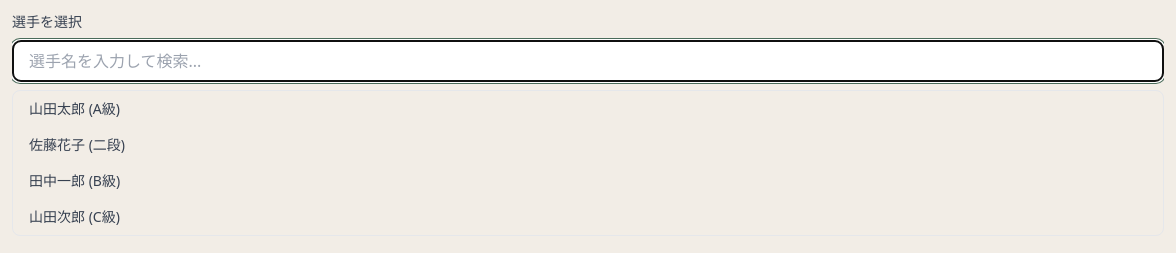
Test: PlayerSearchCombobox › 該当なしの場合は「該当する選手がいません」が表示される
Type "鈴木" into the dropdown. click: coordinates (588, 61)
box: [12, 40, 1164, 82]
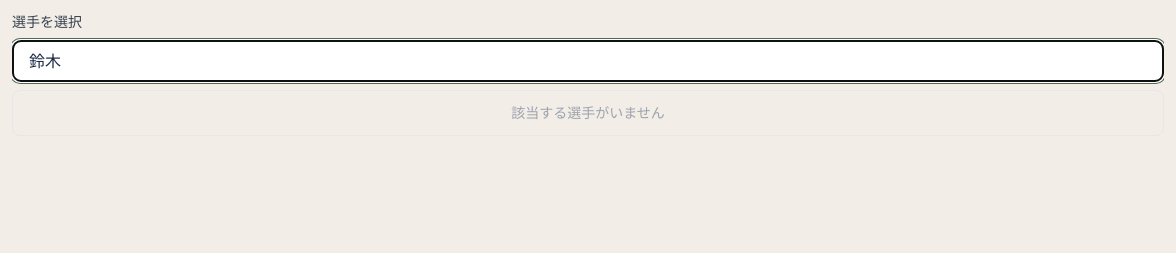
Now no options are shown
Now the text "該当する選手がいません" is shown, box [511, 103, 665, 122]
